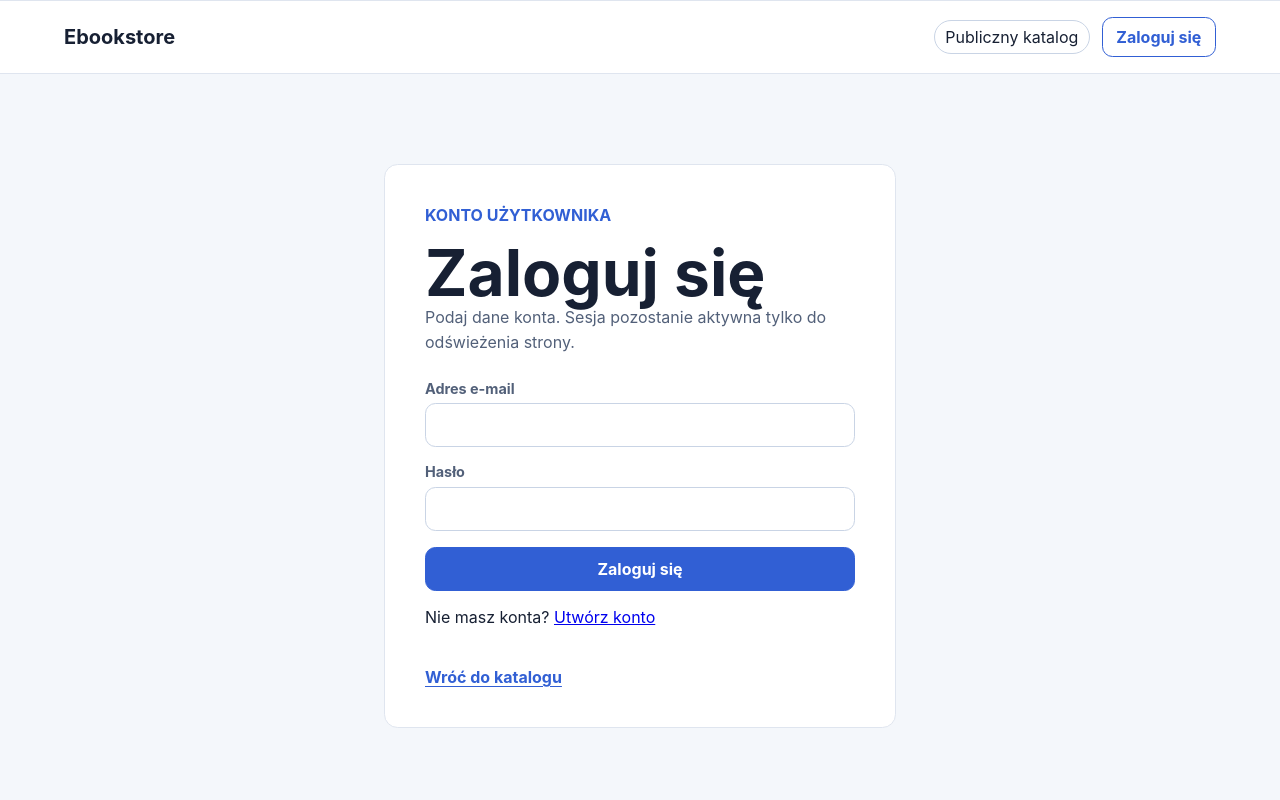
Test: registration flow › navigates between login and registration without reloading
Click the link "Utwórz konto" at (605, 617), box [554, 607, 655, 627]
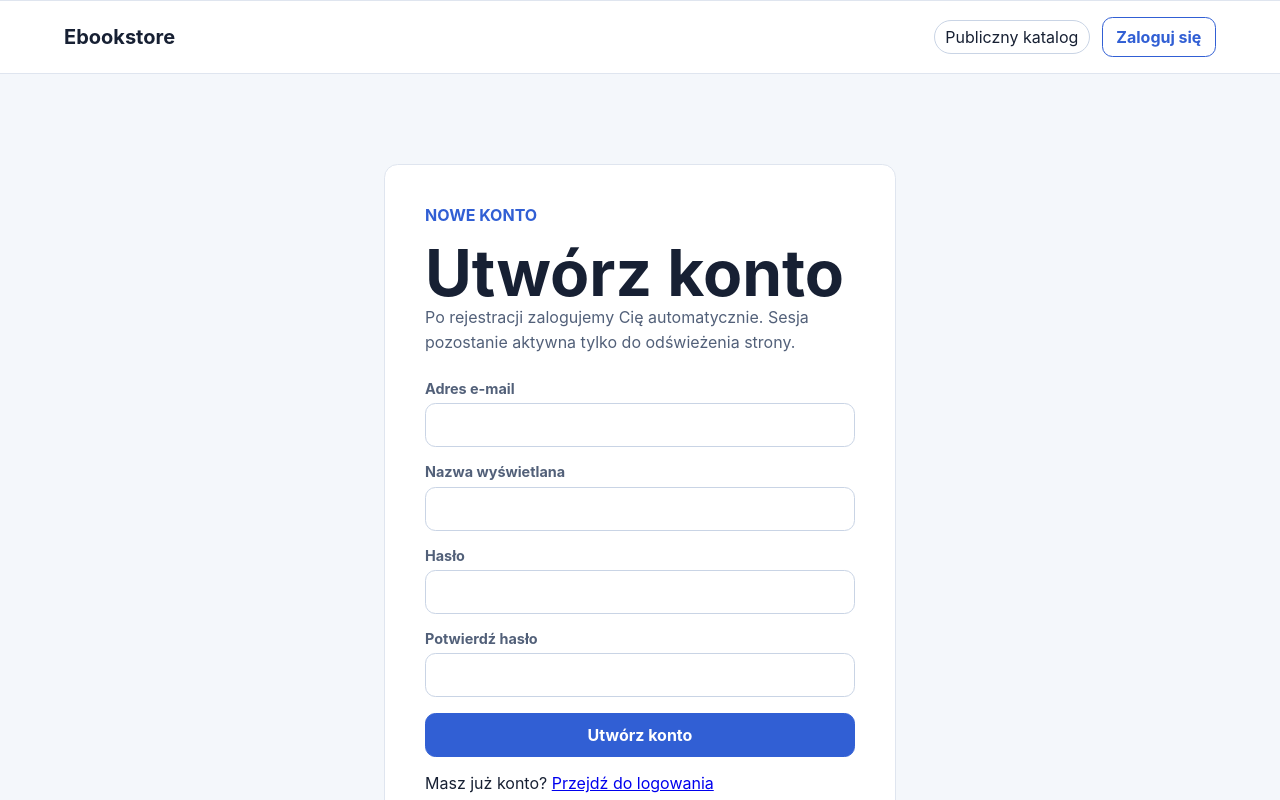
Result: the heading "Utwórz konto" is shown at [425, 241, 855, 305]
Click the link "Przejdź do logowania" at (633, 783), box [552, 773, 714, 793]
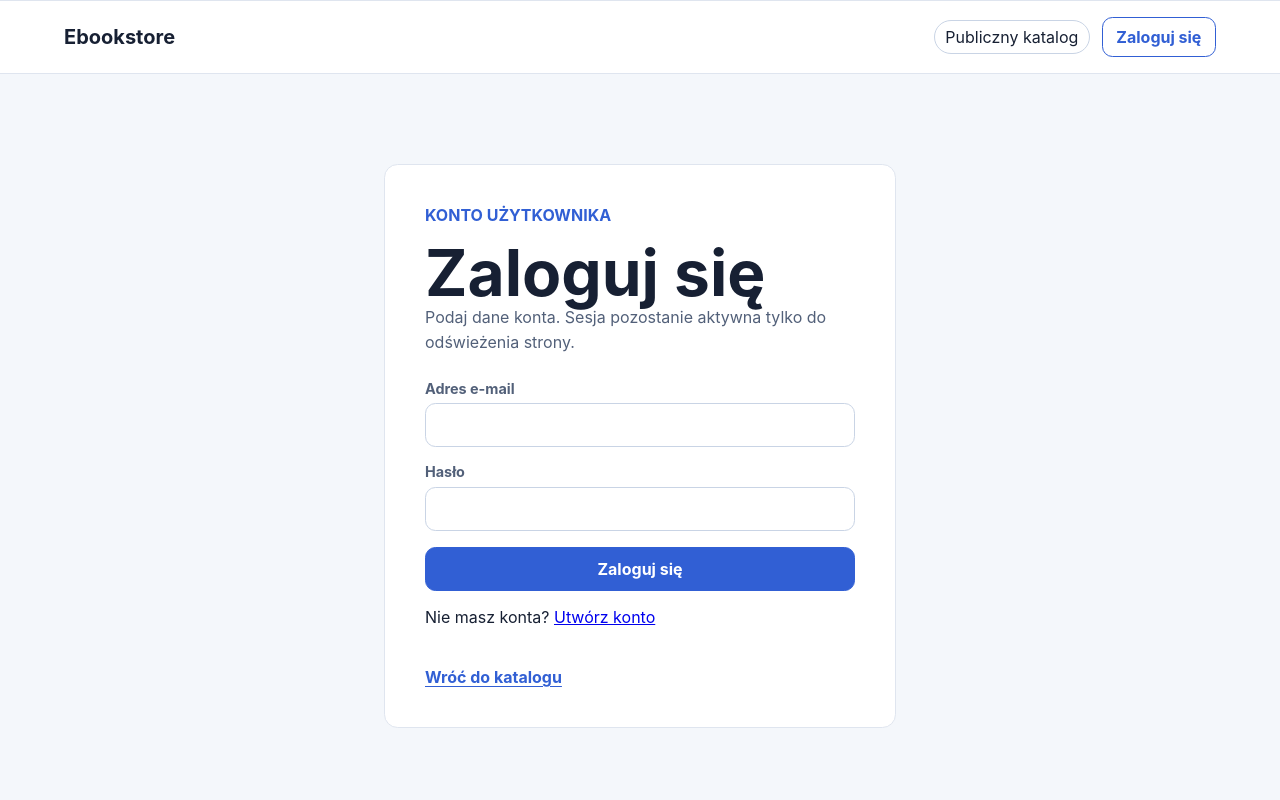
Result: the heading "Zaloguj się" is shown at [425, 234, 765, 311]
